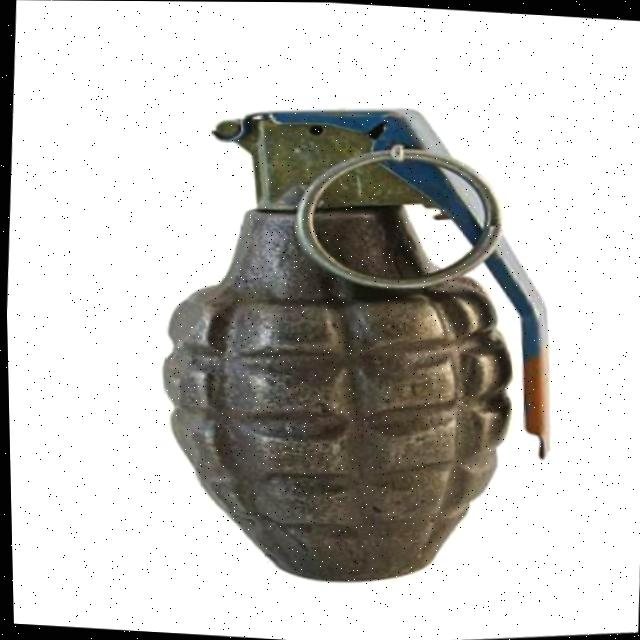grenade: (113, 65, 607, 624)
